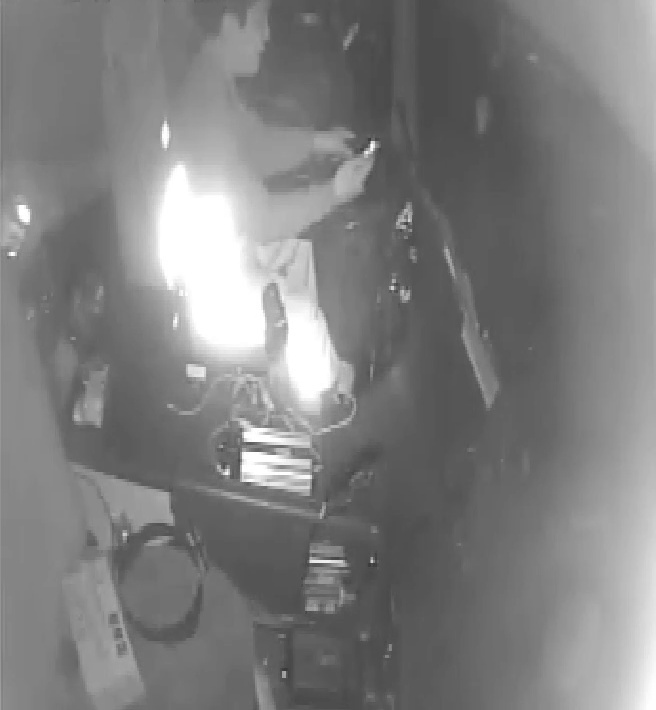cellphone: (347, 134, 380, 172)
